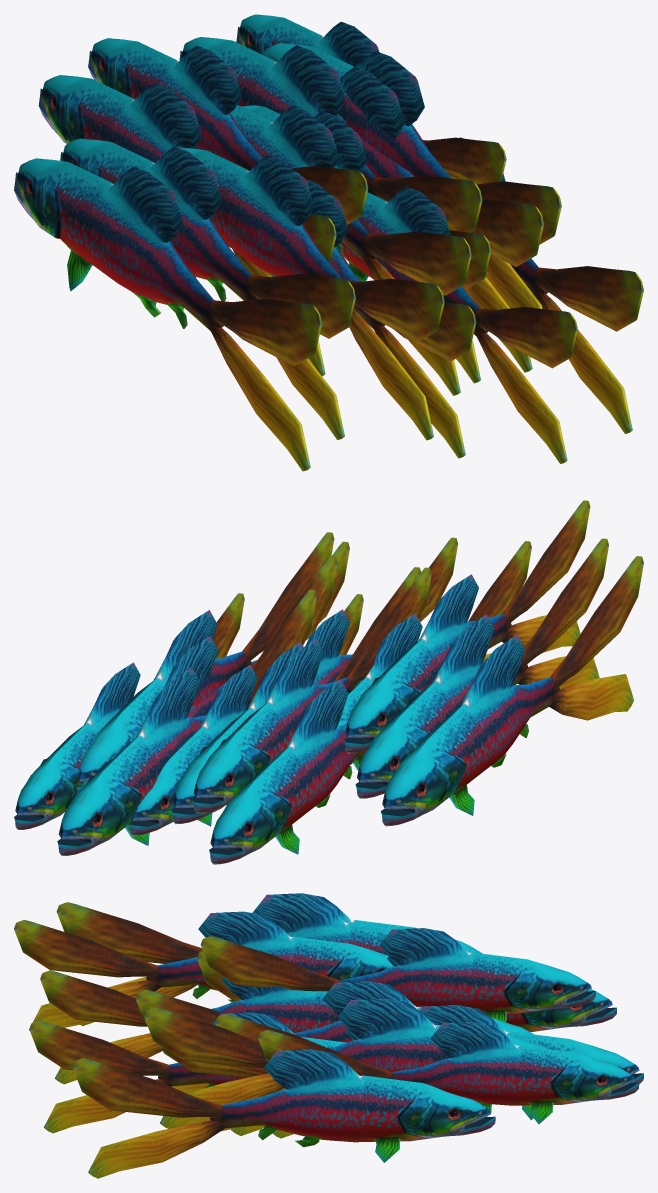
The model's file is RawFishPile_Bass.glb.
3 renders of one model, top to bottom at view 1: azimuth 30°, elevation 25°; view 2: azimuth 150°, elevation 25°; view 3: azimuth 270°, elevation 25°, orthographic. The views are drawn at different scales.
Parts seen in each view (by area): view 1: RawFishPile_Bass; view 2: RawFishPile_Bass; view 3: RawFishPile_Bass.
Boxes of the visible parts, x1,y1,x2,y2 form: RawFishPile_Bass: (14, 14, 643, 471); RawFishPile_Bass: (14, 500, 643, 864); RawFishPile_Bass: (14, 893, 643, 1178).
Bounding box in the file's own units: 0.6718 × 0.43 × 1.32.
Materials: 1 (1 with a texture image).
